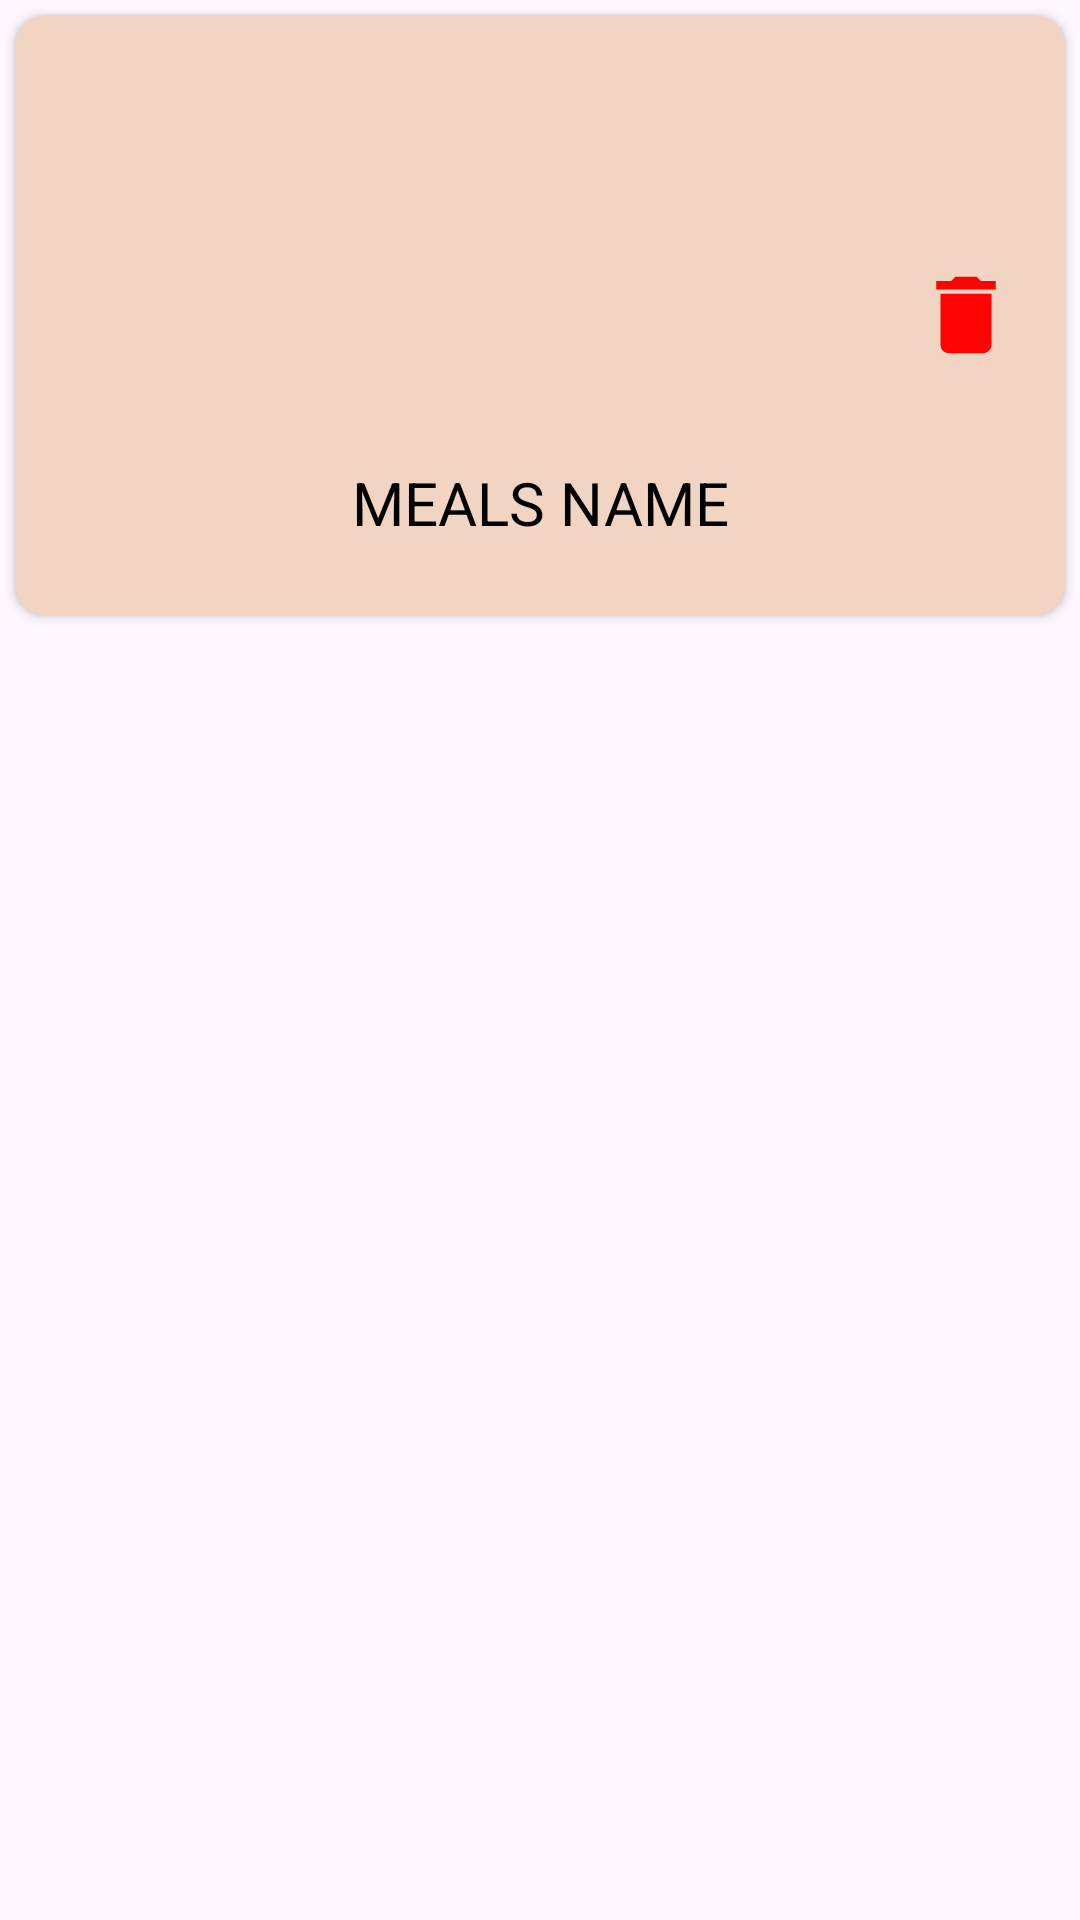

Where to tap for icons on this 1080*1920 app screen, as [x,y]:
delete: [966,315]
